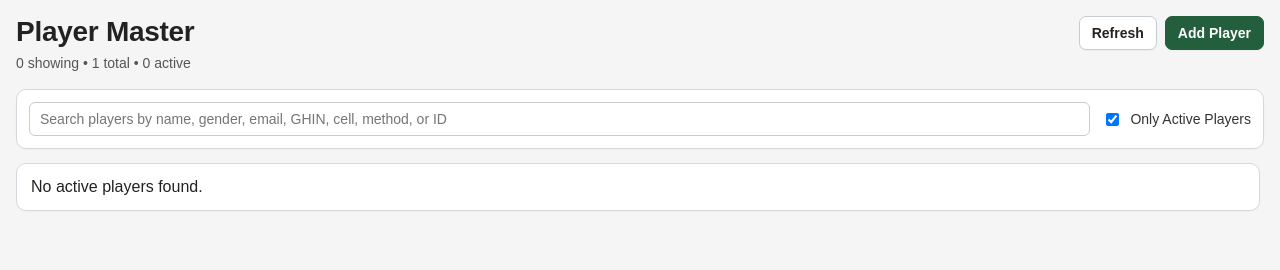
it: Player administration page characterization (before controller extraction) › distinguishes search, active-only and empty-list states
expect the text "No active players found." is shown: met, box x1=16 y1=163 x2=1260 y2=211
Replace the text in the field with placeholder "Search players by name, gender, email, GHIN, cell, method, or ID" with "nothing" at {"x": 560, "y": 119}, box x1=29 y1=102 x2=1090 y2=136
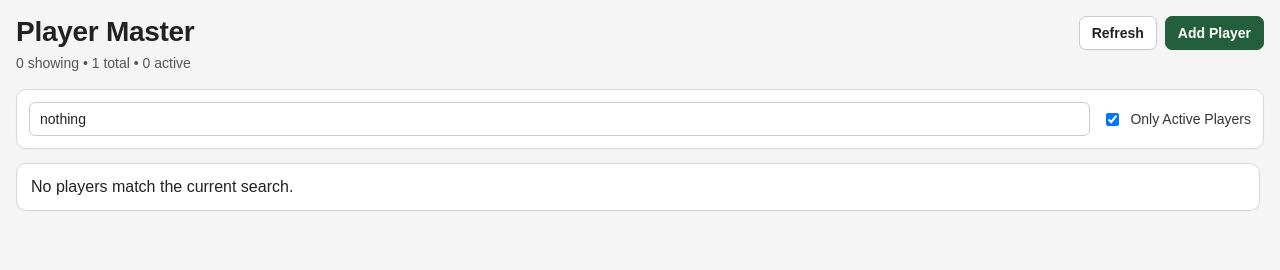
expect the text "No players match the current search." is shown: met, box x1=16 y1=163 x2=1260 y2=211
Click the checkbox labelled "Only Active Players" at {"x": 1113, "y": 119}, box x1=1106 y1=113 x2=1119 y2=126
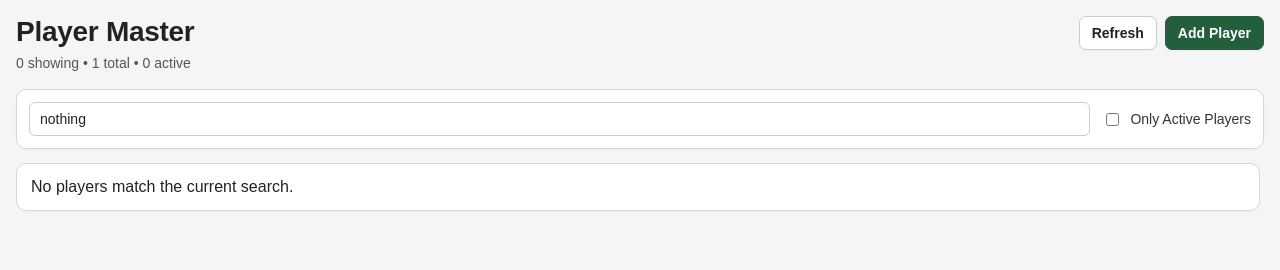
Clear the field with placeholder "Search players by name, gender, email, GHIN, cell, method, or ID" at {"x": 560, "y": 119}, box x1=29 y1=102 x2=1090 y2=136
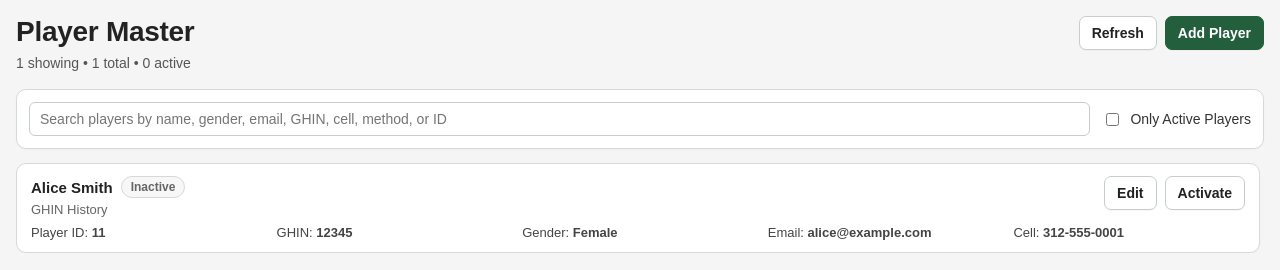
expect the text "Alice Smith" is shown: met, box x1=31 y1=179 x2=113 y2=196
